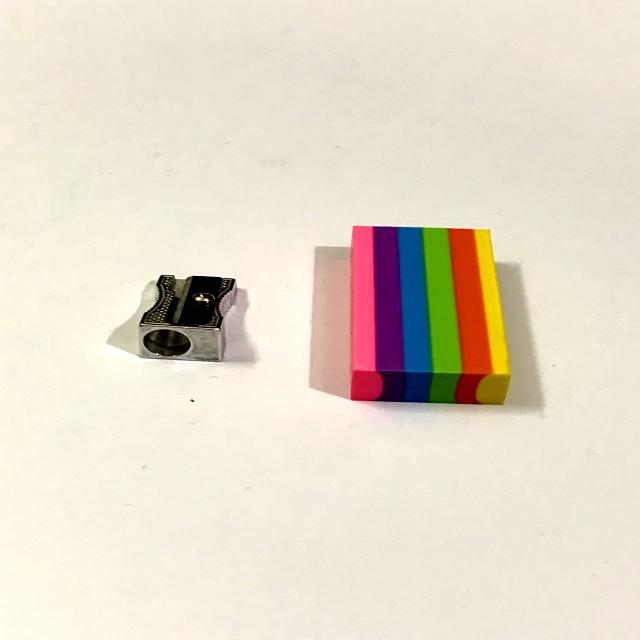Eraser: (318, 202, 552, 419)
Sharpner: (129, 255, 265, 369)
